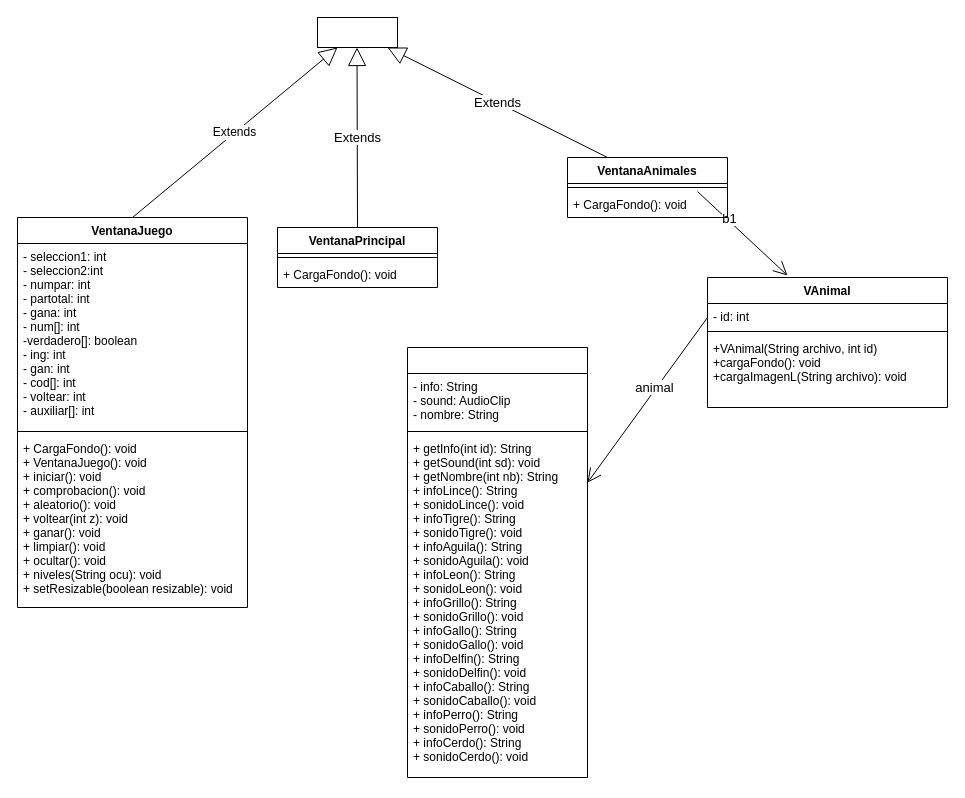
Image size: 965x798. Some labels were removed from this diagram. Here are the shapes that lost their labels. From the top down, the box of each, then its label:
(316, 16, 398, 48): JFrame
(406, 346, 588, 778): Animales
